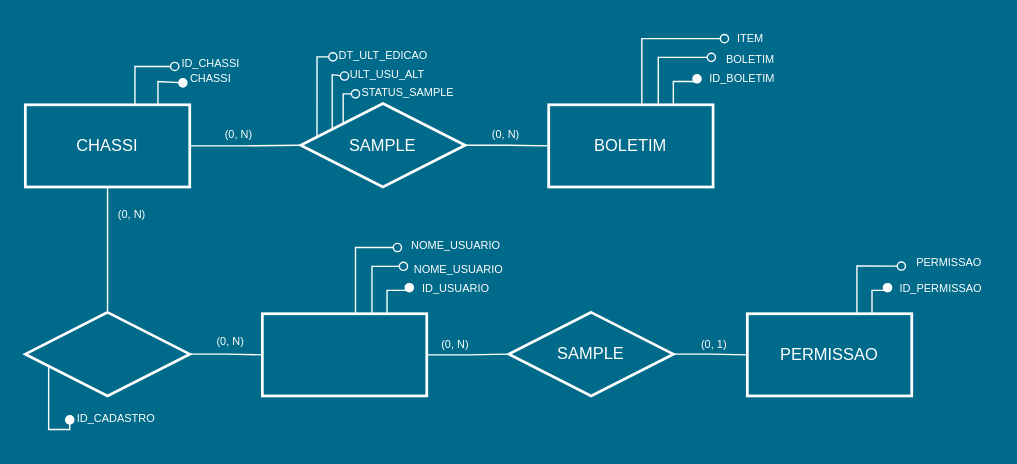
The diagram is 1017 pixels wide and 464 high, and some of its shapes have lost their labels. Each missing label, with the centre of its shape:
"CADASTRO" goes at pixel 106 353.
"USUARIO" goes at pixel 343 354.
